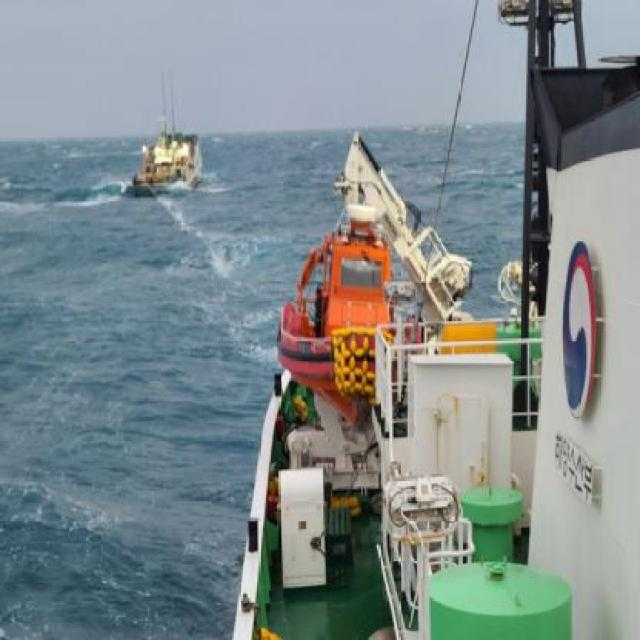fish-b: (128, 62, 209, 205)
